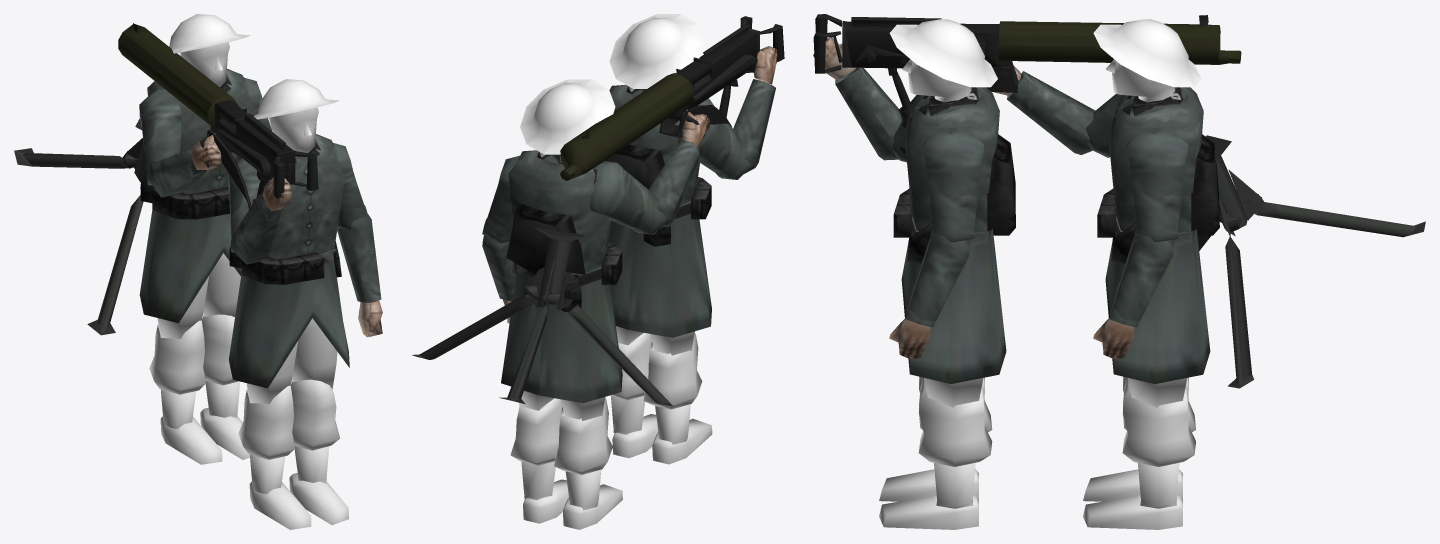
Rendered from britinfmach.dae.
3 views of the same model, side by side, from view 1: azimuth 30°, elevation 25°; view 2: azimuth 150°, elevation 25°; view 3: azimuth 270°, elevation 25° (orthographic). The views are drawn at different scales.
Parts seen in each view (by area): view 1: torso, torso2, gun, rloleg, rloleg2, gunbott, lloleg, head, head2, lloleg2, ruparm2, lloarm (+16 smaller); view 2: torso2, torso, gun, gunbott, head, head2, rloleg2, rloleg, lloleg2, ruparm2, lloleg, rloarm2 (+12 smaller); view 3: torso, torso2, gun, gunbott, head, head2, lloleg, lloleg2, luparm, luparm2, rloarm2, lloarm (+11 smaller).
Part boxes in pixels (bbox=[...]): torso: bbox=[228, 134, 349, 388]; torso2: bbox=[139, 69, 255, 323]; gun: bbox=[118, 23, 318, 209]; rloleg: bbox=[238, 385, 295, 494]; rloleg2: bbox=[149, 320, 205, 429]; gunbott: bbox=[14, 118, 146, 335]; lloleg: bbox=[290, 379, 340, 483]; head: bbox=[254, 79, 339, 152]; head2: bbox=[169, 14, 250, 86]; lloleg2: bbox=[201, 314, 240, 418]; ruparm2: bbox=[139, 87, 181, 185]; lloarm: bbox=[337, 213, 381, 302]; torso2: bbox=[501, 150, 622, 403]; torso: bbox=[605, 85, 711, 337]; gun: bbox=[560, 16, 784, 180]; gunbott: bbox=[412, 227, 672, 406]; head: bbox=[609, 14, 704, 88]; head2: bbox=[520, 79, 615, 154]; rloleg2: bbox=[554, 399, 612, 510]; rloleg: bbox=[643, 333, 702, 444]; lloleg2: bbox=[510, 398, 562, 500]; ruparm2: bbox=[590, 161, 666, 234]; lloleg: bbox=[610, 333, 651, 434]; rloarm2: bbox=[649, 139, 700, 226]; torso: bbox=[893, 87, 1015, 383]; torso2: bbox=[1097, 87, 1219, 383]; gun: bbox=[813, 14, 1241, 154]; gunbott: bbox=[1197, 135, 1425, 388]; head: bbox=[889, 19, 997, 102]; head2: bbox=[1093, 19, 1201, 102]; lloleg: bbox=[918, 377, 992, 508]; lloleg2: bbox=[1122, 377, 1195, 508]; luparm: bbox=[923, 130, 984, 241]; luparm2: bbox=[1127, 130, 1188, 242]; rloarm2: bbox=[1007, 71, 1095, 154]; lloarm: bbox=[906, 226, 969, 327].
Size of the model in its own units: 12.15 by 25.49 by 22.4.
Materials: 3 (1 with a texture image).
